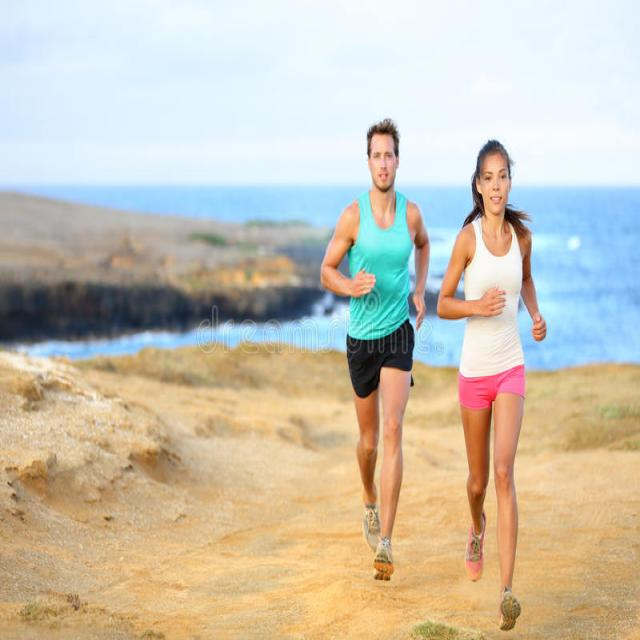running: (433, 136, 548, 634), (320, 117, 435, 586)
